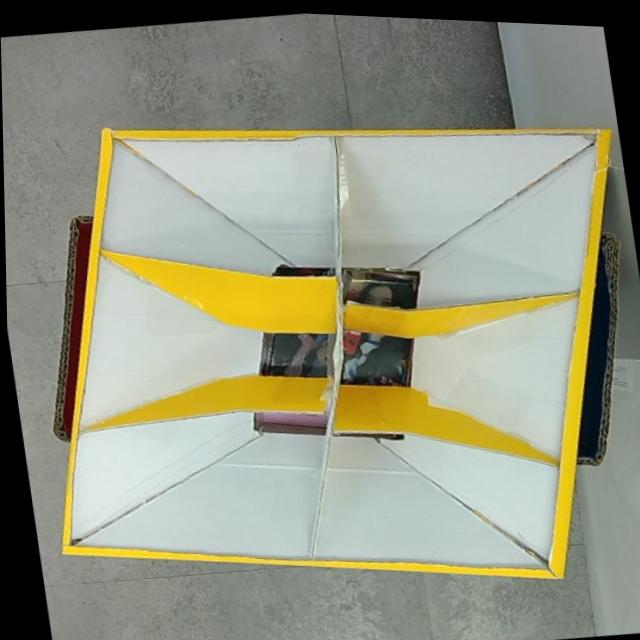box: (1, 61, 640, 638)
